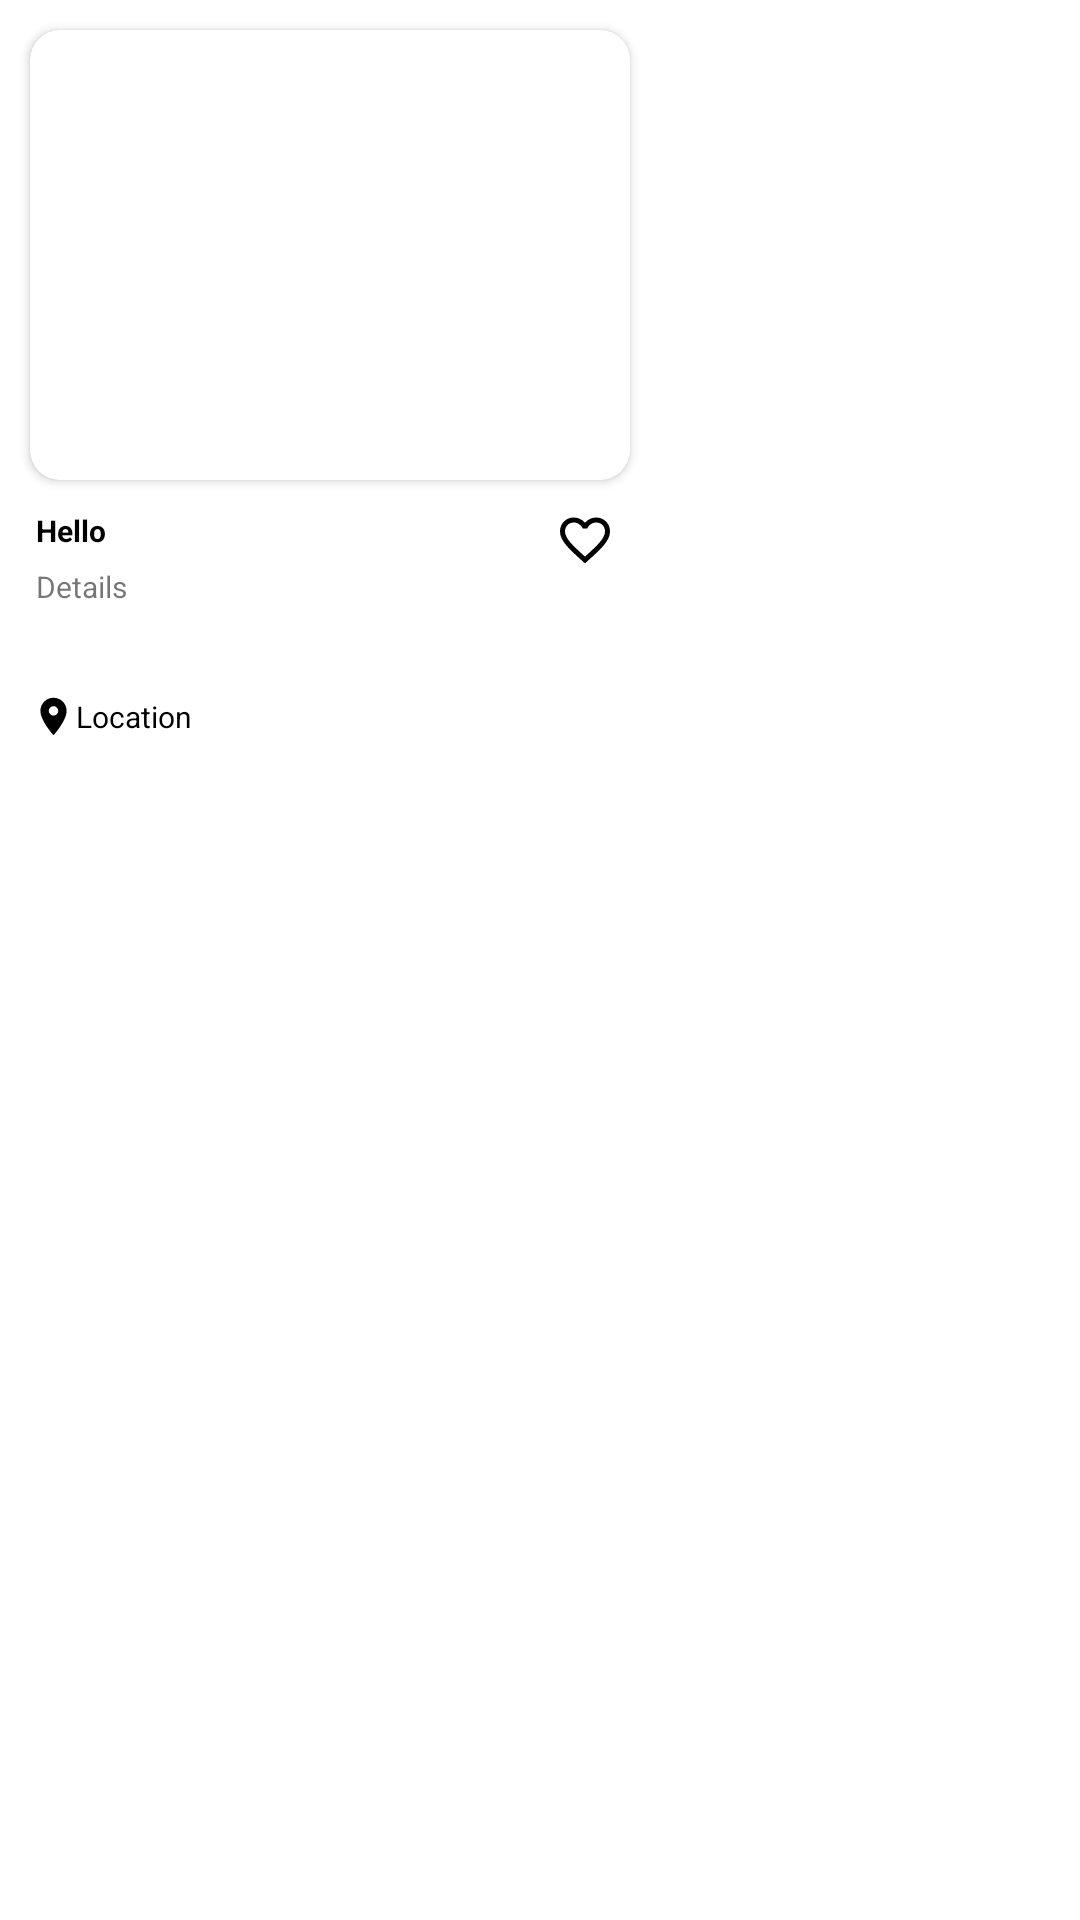

Point at icon controls on the screen. Image size 1080w x 1920h, points as point (x, y).
favorite border: point (585, 540)
